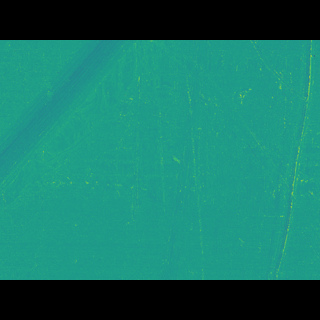Loch: (0, 67, 179, 196), (46, 127, 320, 198), (261, 68, 319, 250), (155, 69, 212, 250)
